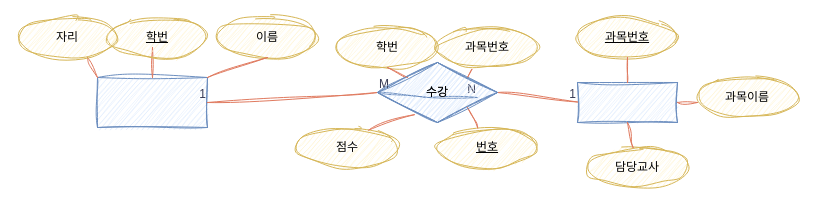
This 815x205 diagram has some shape labels left out. The centre of each missing label's shape, as x and y in pixels:
과목: [627,102]
학생: [152,102]
